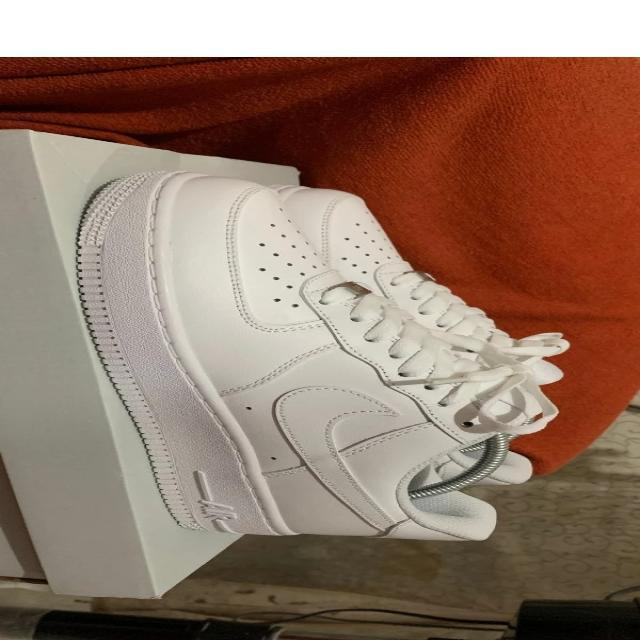nike original air force: (53, 173, 506, 548), (260, 179, 566, 461)
